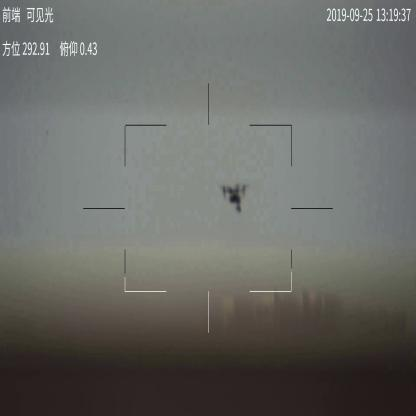uav: (221, 184, 249, 215)
